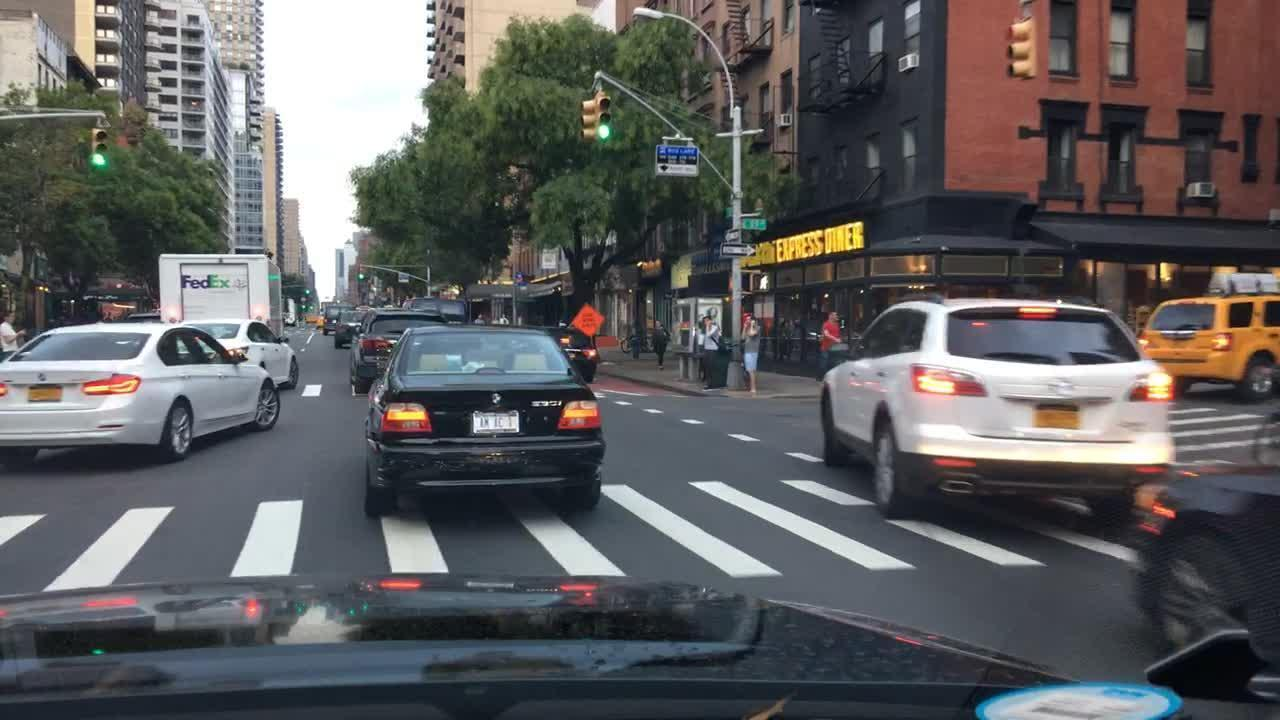bmw: (490, 390, 505, 408)
